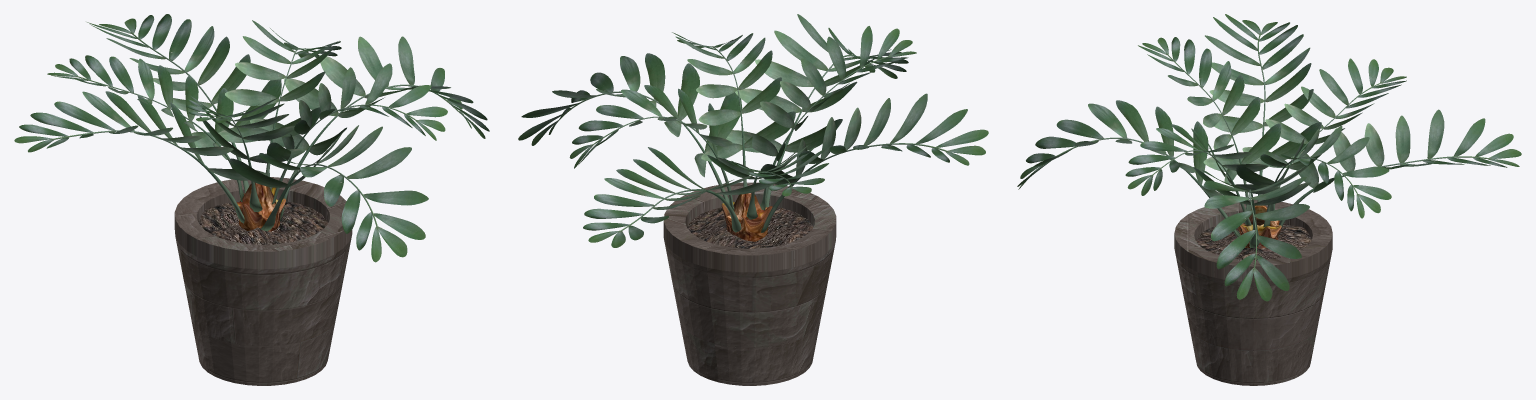
The model's file is cardboard palm with paso.fbx.
3 views of the same model, side by side, from view 1: azimuth 30°, elevation 25°; view 2: azimuth 150°, elevation 25°; view 3: azimuth 270°, elevation 25° (orthographic). The views are drawn at different scales.
Parts seen in each view (by area): view 1: cardboard palm, Cylinder, Plane; view 2: cardboard palm, Cylinder, Plane; view 3: cardboard palm, Cylinder, Plane.
Part boxes in pixels (x1=…): cardboard palm: x1=14, y1=14, x2=489, y2=262; Cylinder: x1=174, y1=177, x2=352, y2=385; Plane: x1=198, y1=201, x2=328, y2=244; cardboard palm: x1=518, y1=14, x2=988, y2=247; Cylinder: x1=663, y1=182, x2=836, y2=385; Plane: x1=687, y1=206, x2=812, y2=248; cardboard palm: x1=1017, y1=14, x2=1521, y2=301; Cylinder: x1=1174, y1=200, x2=1332, y2=385; Plane: x1=1195, y1=222, x2=1311, y2=260.
Bounding box in the file's own units: 141 × 92.93 × 152.
14 materials, 14 textured.
